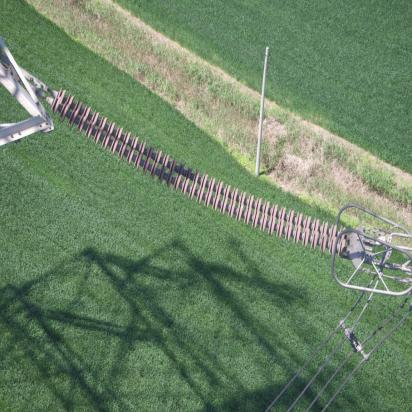insulator: (34, 83, 355, 261)
